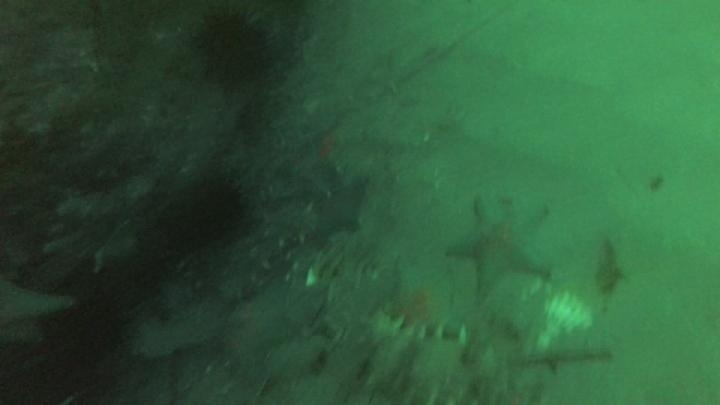echinus: (158, 170, 250, 254), (191, 5, 277, 91)
holothurian: (357, 306, 478, 401), (215, 202, 321, 301), (257, 198, 326, 251)
scallop: (510, 276, 611, 361)
starfish: (444, 191, 556, 296), (383, 259, 466, 341), (1, 274, 77, 331), (311, 174, 372, 239)
